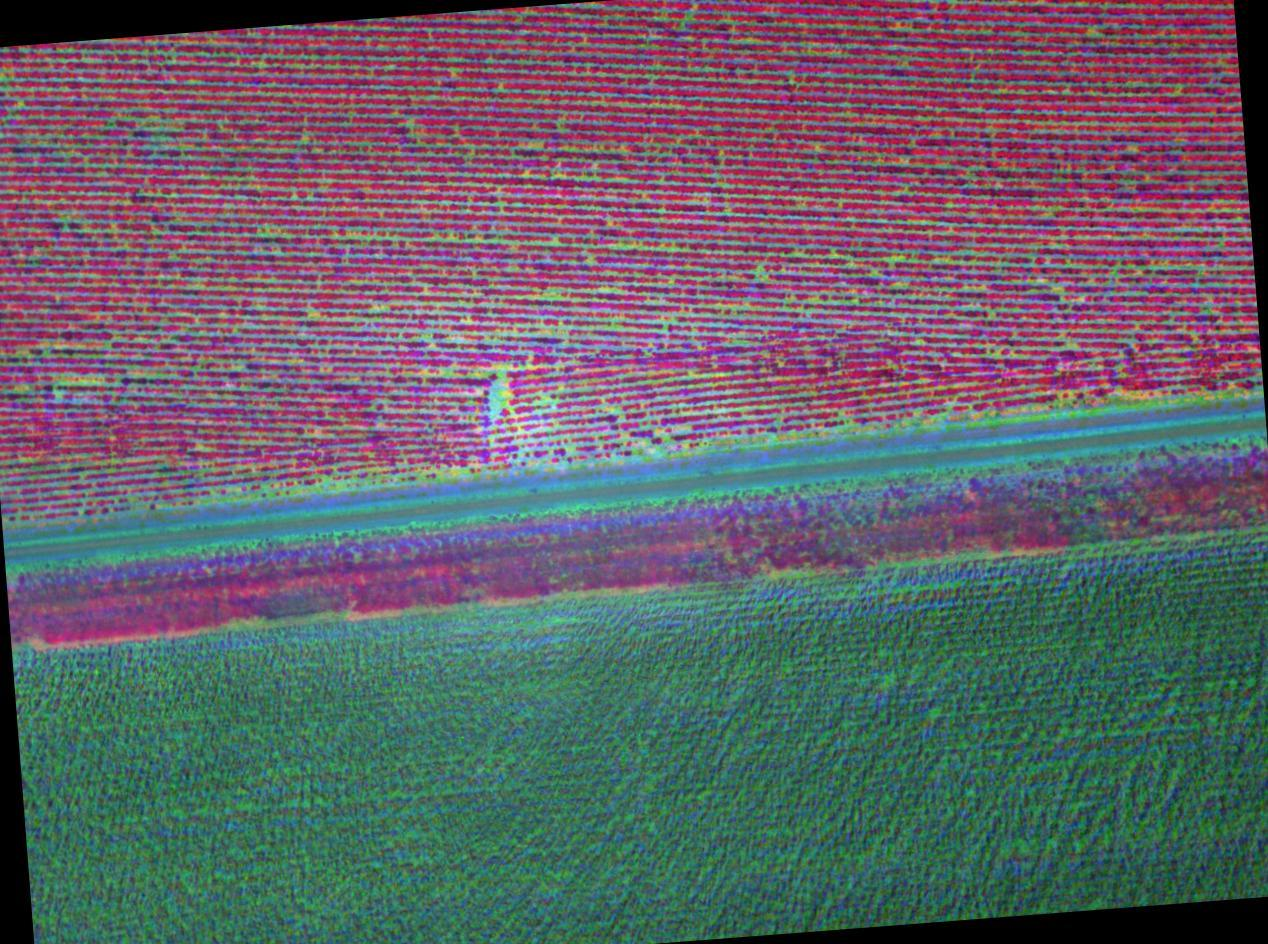dc: (496, 384, 502, 390), (492, 410, 498, 416), (643, 444, 649, 450), (495, 397, 501, 402), (568, 447, 573, 453), (310, 314, 315, 319), (757, 269, 762, 273), (259, 233, 263, 237)
